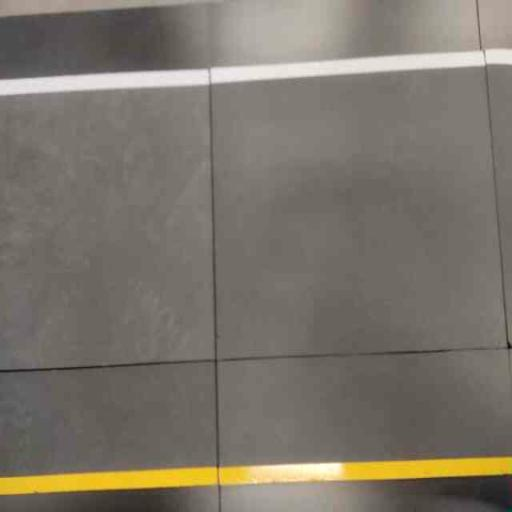straight: (14, 42, 509, 490)
